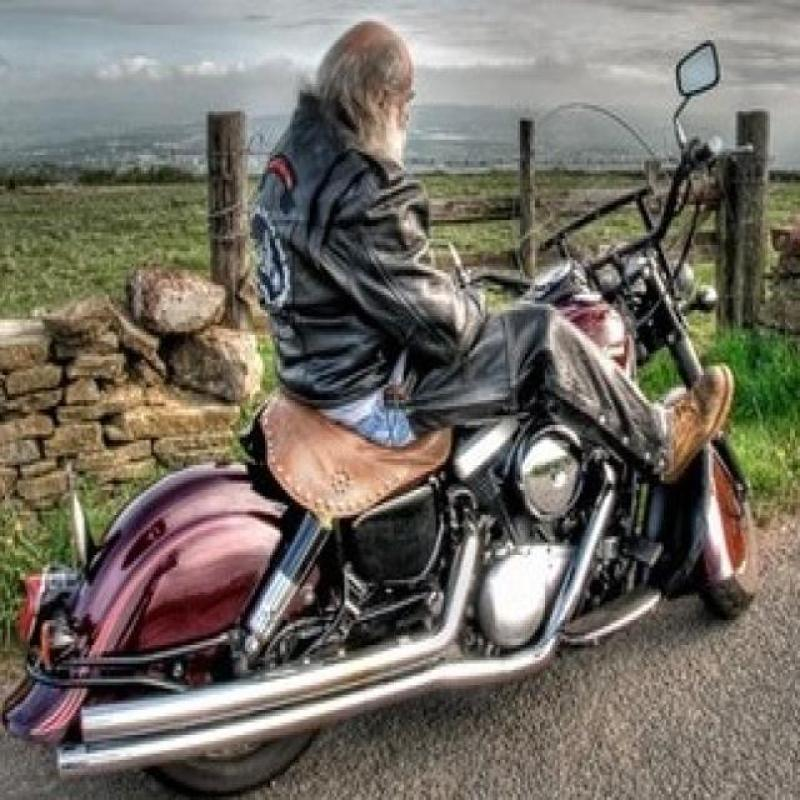nohelmet: (303, 11, 452, 150)
